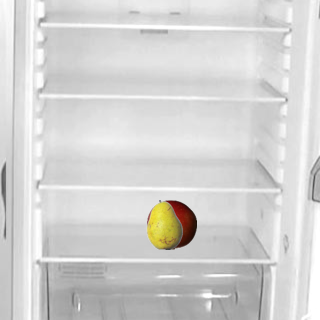Apple Braeburn: (146, 199, 196, 249)
Pear Monster: (139, 199, 189, 249)
